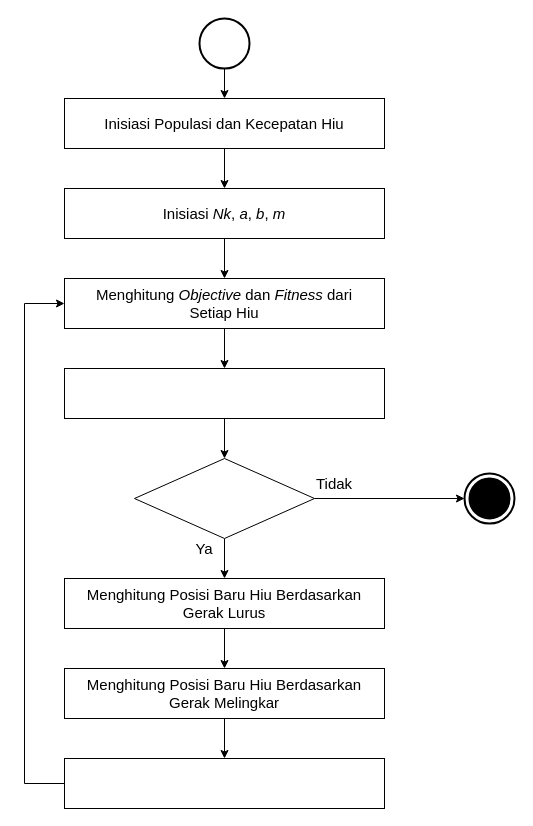
This 533x826 diagram has some shape labels left out. Here are the shapes that lost their labels. From the top down, the box of each, then its label:
(64, 368, 384, 418): Menentukan Sbest dari Koloni
(134, 458, 314, 538): Iterasi < Max_Iterasi ?
(64, 758, 384, 808): Memperbaharui Posisi Hiu berdasarkan Pilihan Gerak Lurus atau Melingkar
